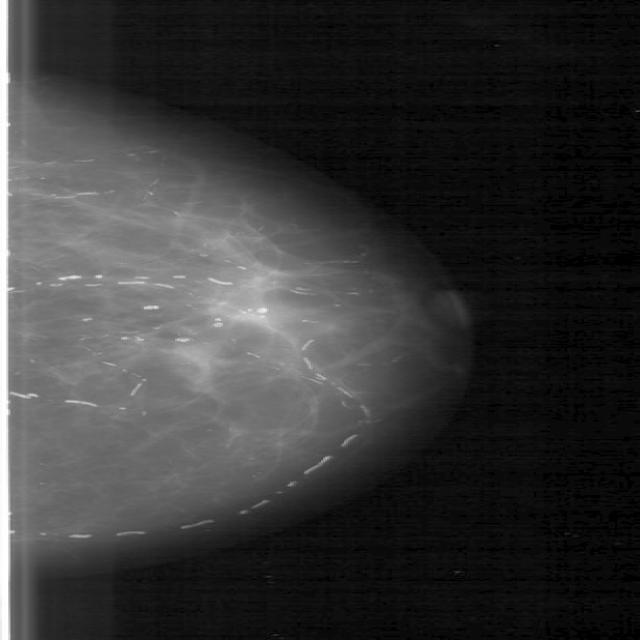tumour: (156, 336, 228, 396)
